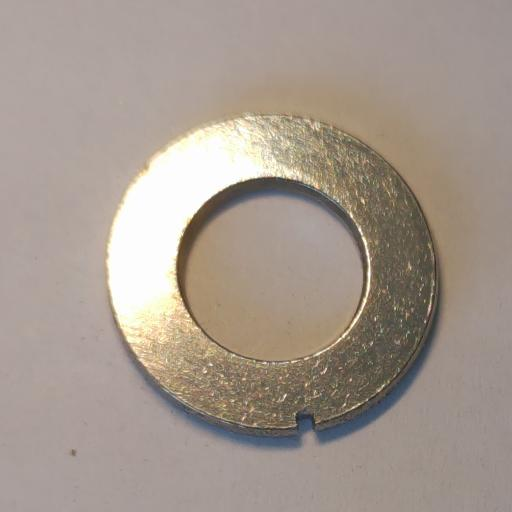burr: (292, 410, 317, 431)
